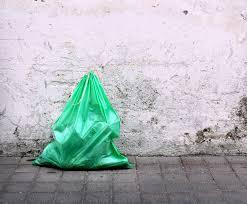Plastic bag: (36, 68, 134, 174)
